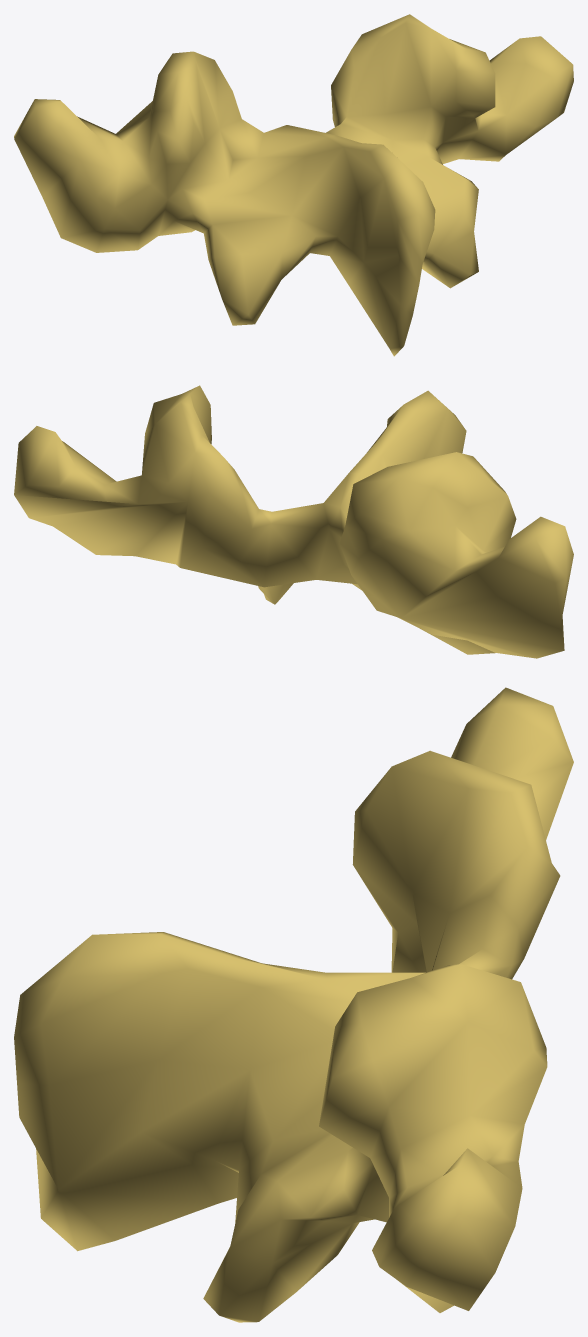
3 views of the same model, one above another, from view 1: azimuth 30°, elevation 25°; view 2: azimuth 150°, elevation 25°; view 3: azimuth 270°, elevation 25° (orthographic). The views are drawn at different scales.
Parts seen in each view (by area): view 1: L5vertebra; view 2: L5vertebra; view 3: L5vertebra.
Boxes of the visible parts, box(x1,y1,x2,y2) form: L5vertebra: box(14, 14, 573, 356); L5vertebra: box(14, 385, 573, 658); L5vertebra: box(14, 687, 573, 1322).
Size of the model in its own units: 9.53 by 4.1 by 5.12.
